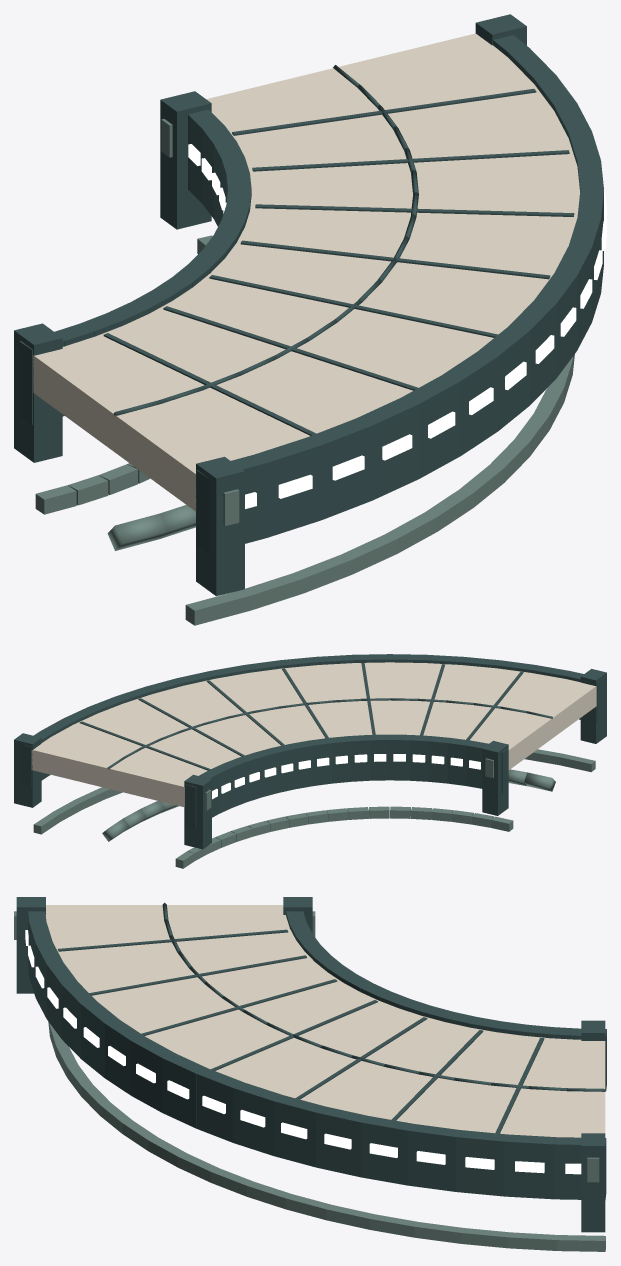
File: Curve_90_lab.glb
3 views of the same model, one above another, from view 1: azimuth 30°, elevation 25°; view 2: azimuth 150°, elevation 25°; view 3: azimuth 270°, elevation 25° (orthographic). The views are drawn at different scales.
Visible parts, largest first — view 1: Curve_90; view 2: Curve_90; view 3: Curve_90.
Boxes of the visible parts, left/top/right/bottom form: Curve_90: left=14, top=14, right=606, bottom=625; Curve_90: left=14, top=654, right=606, bottom=868; Curve_90: left=14, top=897, right=606, bottom=1251.
Size of the model in its own units: 6.85 by 1.52 by 6.85.
